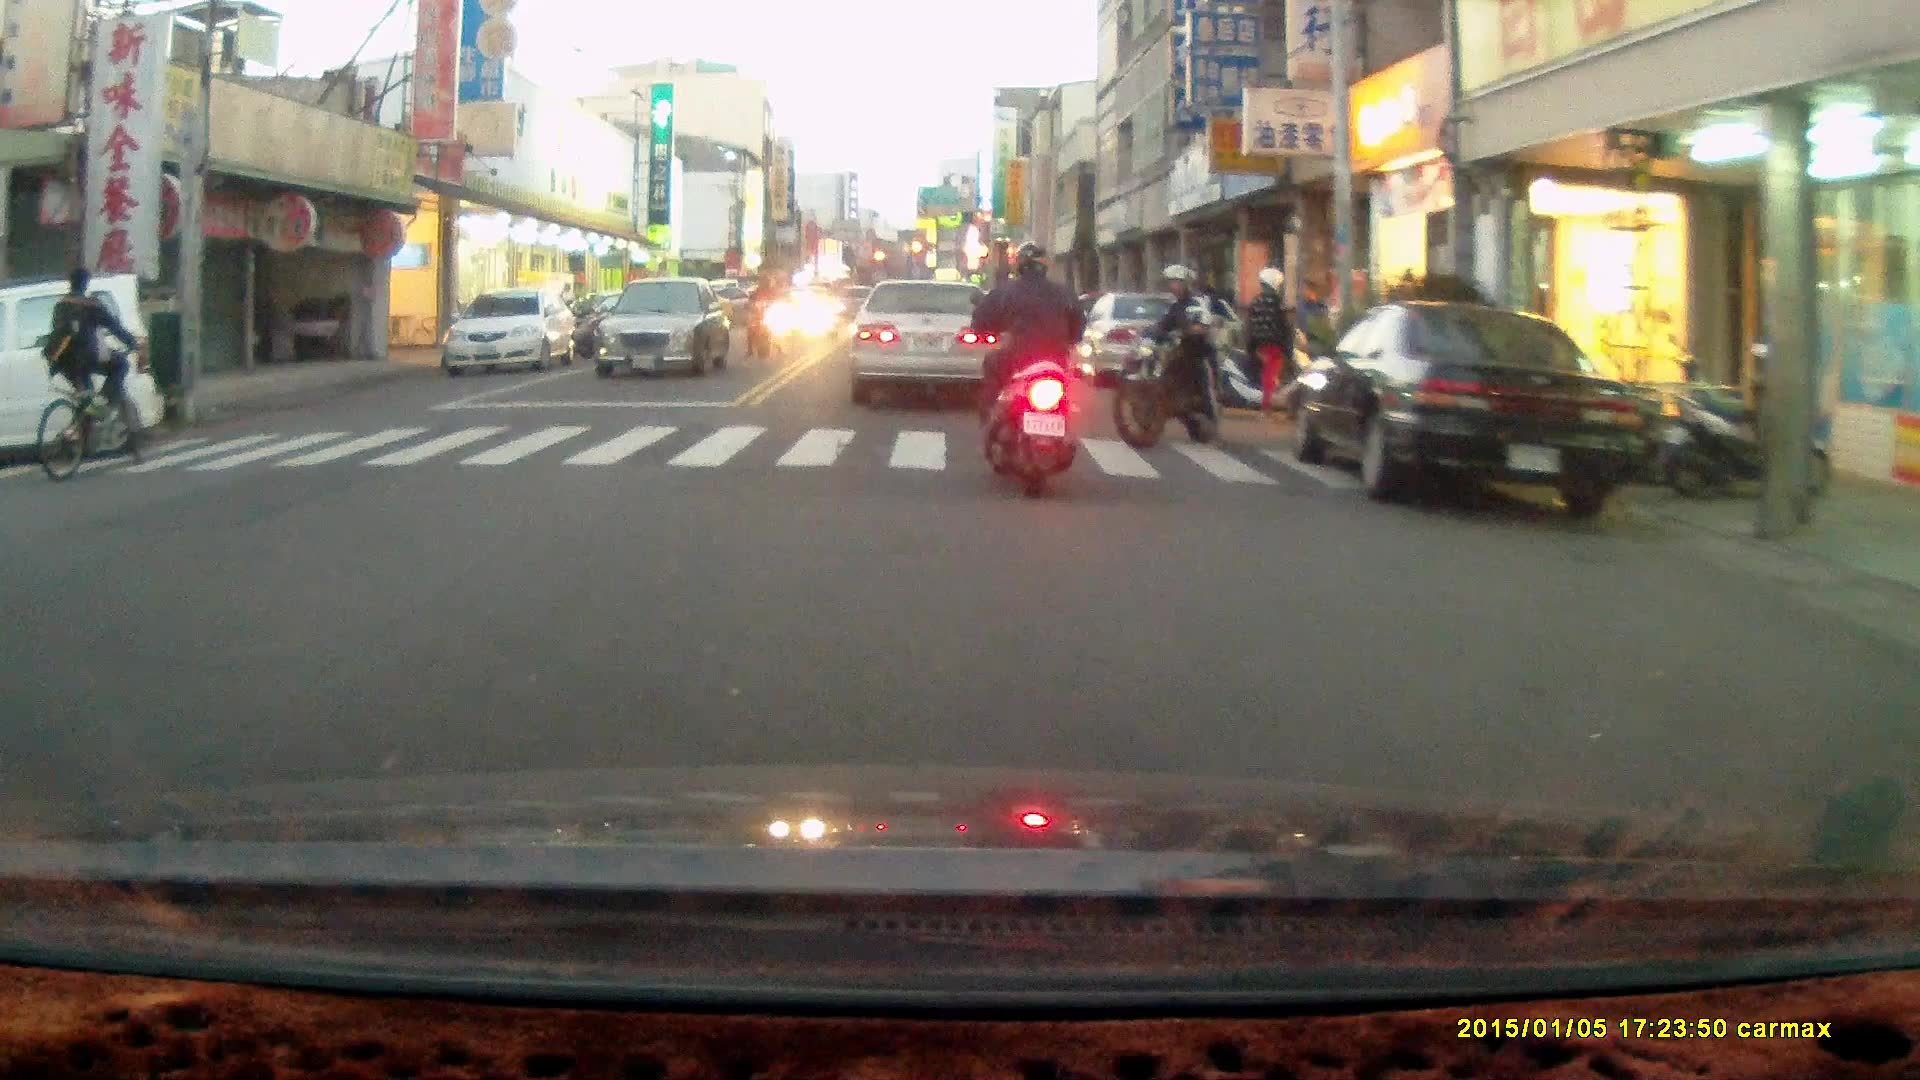pedestrian: (1249, 265, 1293, 424)
rider: (967, 239, 1088, 498), (1109, 261, 1247, 444), (29, 273, 140, 495), (740, 274, 783, 356)
vehicle: (1294, 302, 1643, 516), (1, 269, 169, 467), (851, 279, 1010, 408), (1073, 292, 1227, 392), (596, 278, 736, 384), (444, 288, 578, 374)
